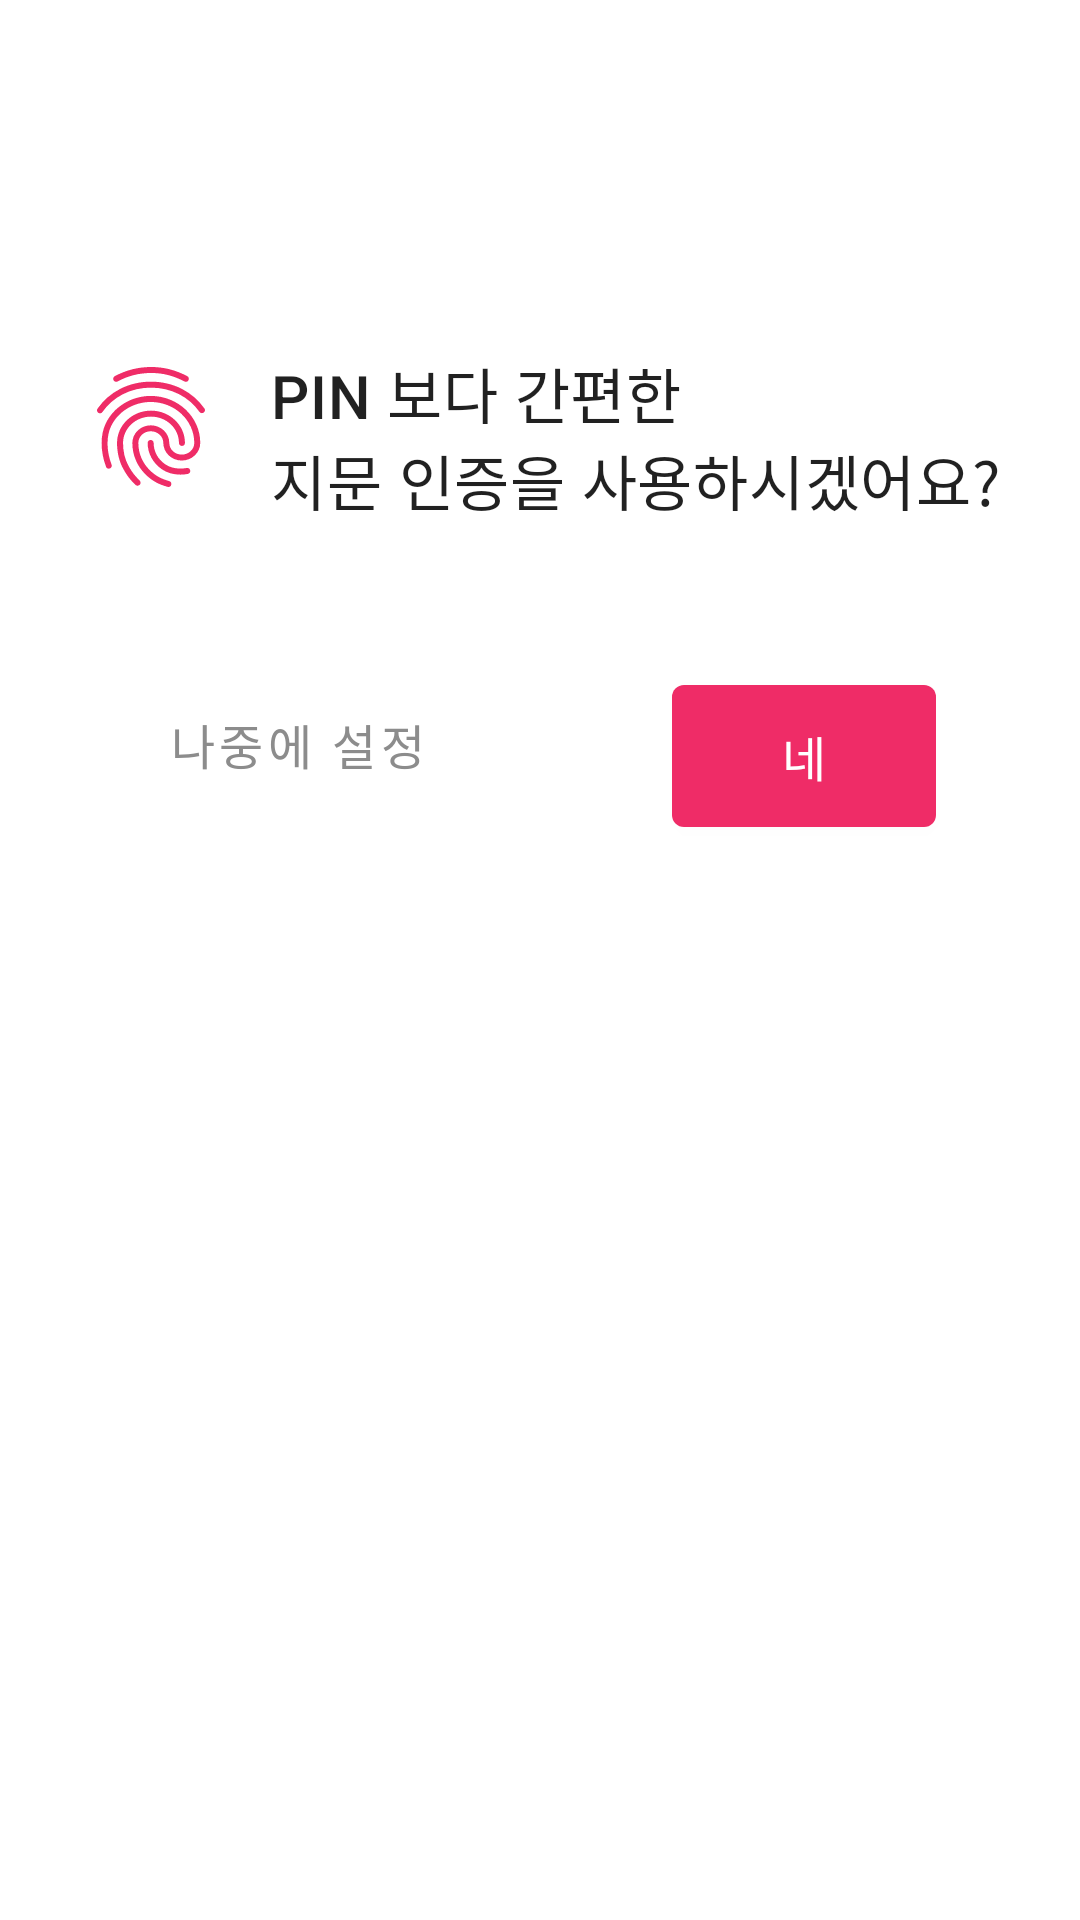

Icon click points for this 1080 x 1920 phone screenshot, format (x=x, y=y):
생체 인증: (x=151, y=427)
